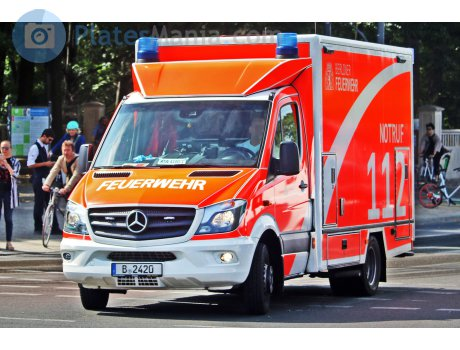License Plates: (114, 259, 155, 274)
